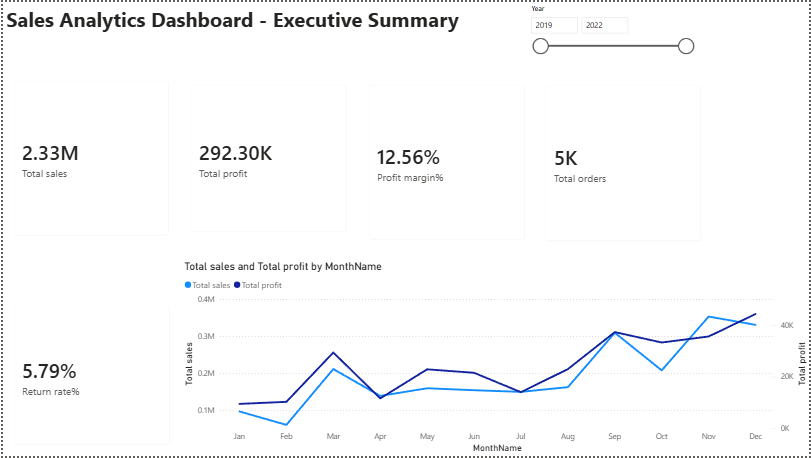

The page's visual inventory and layout, read from the dashboard file:
{"tool":"powerbi","page":{"name":"Executive Summary","canvas":[1280,720],"ordinal":0},"visuals":[{"type":"cardVisual","fields":{"Data":["Measure.Total sales"]},"box":[0,107.5,280.5,280.5],"z":0},{"type":"cardVisual","fields":{"Data":["Measure.Total orders"]},"box":[844.9,114.2,280.5,282.2],"z":1000},{"type":"cardVisual","fields":{"Data":["Measure.Total profit"]},"box":[280.5,114.2,282.2,268.8],"z":2000},{"type":"cardVisual","fields":{"Data":["Measure.Return rate%"]},"box":[0,467,282.2,253.6],"z":3000},{"type":"cardVisual","fields":{"Data":["Measure.Profit margin%"]},"box":[562.7,114.2,282.2,280.5],"z":4000},{"type":"lineChart","fields":{"Category":["DateTable.MonthName"],"Y":["Measure.Total sales"],"Y2":["Measure.Total profit"]},"box":[282.2,409.9,997.8,310.8],"z":5000},{"type":"slicer","fields":{"Values":["DateTable.Year"]},"box":[824.8,0,280.5,107.5],"z":6000},{"type":"textbox","box":[0,0,745.8,80.6],"z":6001}]}

Visuals, with their boxes in screenshot pixels (x1, y1, x2, y2), scaled from the page's 1280x720 canvas onto the 811x458 screenshot:
cardVisual - Measure.Total sales: {"x1": 0, "y1": 68, "x2": 178, "y2": 247}
cardVisual - Measure.Total orders: {"x1": 535, "y1": 73, "x2": 713, "y2": 252}
cardVisual - Measure.Total profit: {"x1": 178, "y1": 73, "x2": 357, "y2": 244}
cardVisual - Measure.Return rate%: {"x1": 0, "y1": 297, "x2": 179, "y2": 457}
cardVisual - Measure.Profit margin%: {"x1": 357, "y1": 73, "x2": 535, "y2": 251}
lineChart - DateTable.MonthName x Measure.Total sales: {"x1": 179, "y1": 261, "x2": 810, "y2": 457}
slicer - DateTable.Year: {"x1": 523, "y1": 0, "x2": 700, "y2": 68}
textbox: {"x1": 0, "y1": 0, "x2": 473, "y2": 51}
